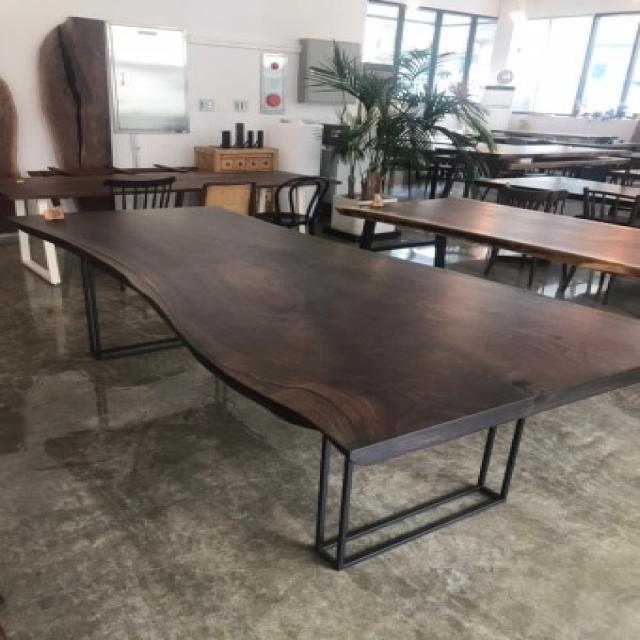Table: (19, 199, 640, 506), (354, 180, 640, 276), (5, 161, 328, 212)
